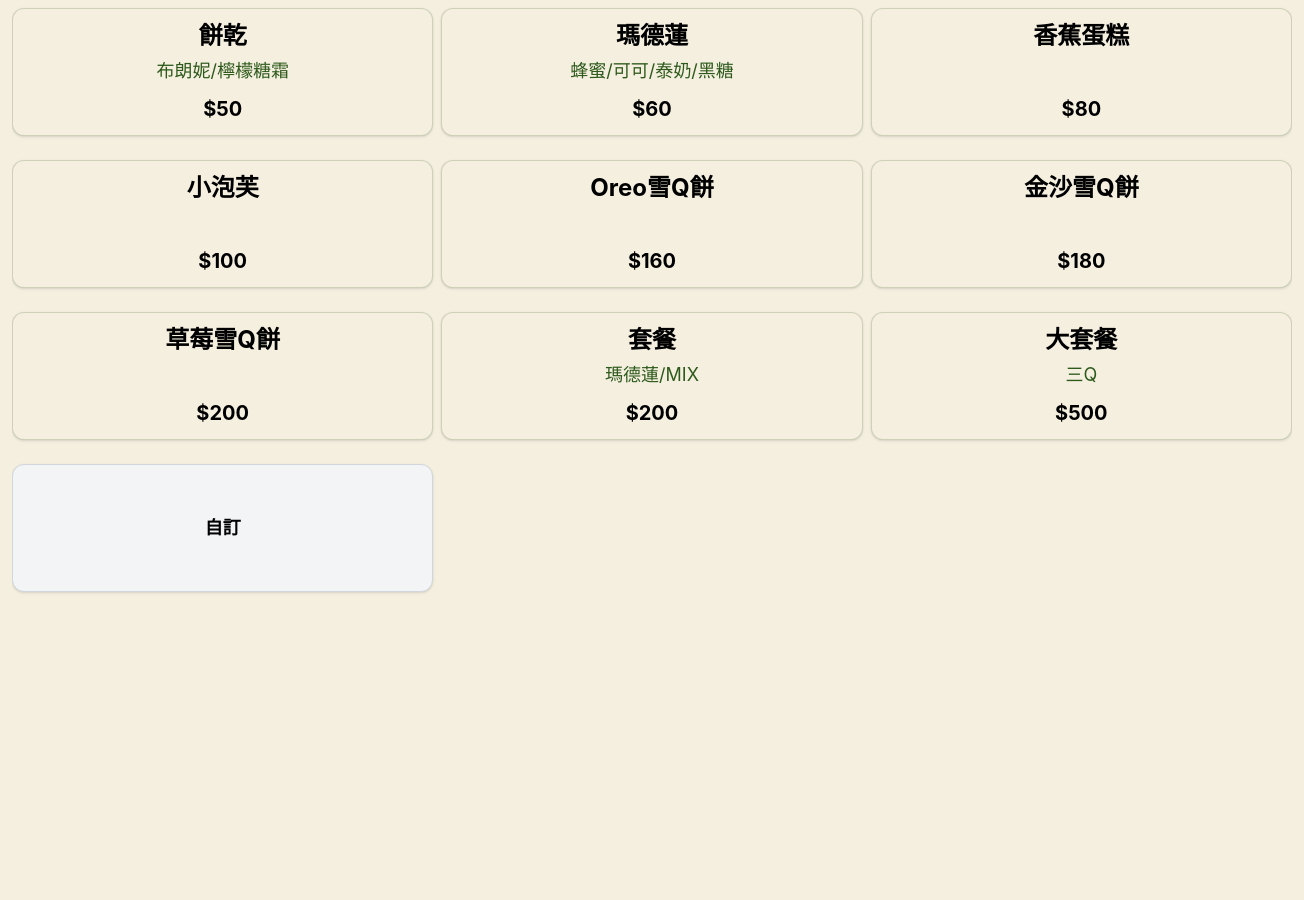
it: PriceGrid › opens custom amount input when custom button clicked
Click the button "自訂" at (223,528), box top-left (12, 464), bottom-right (433, 592)
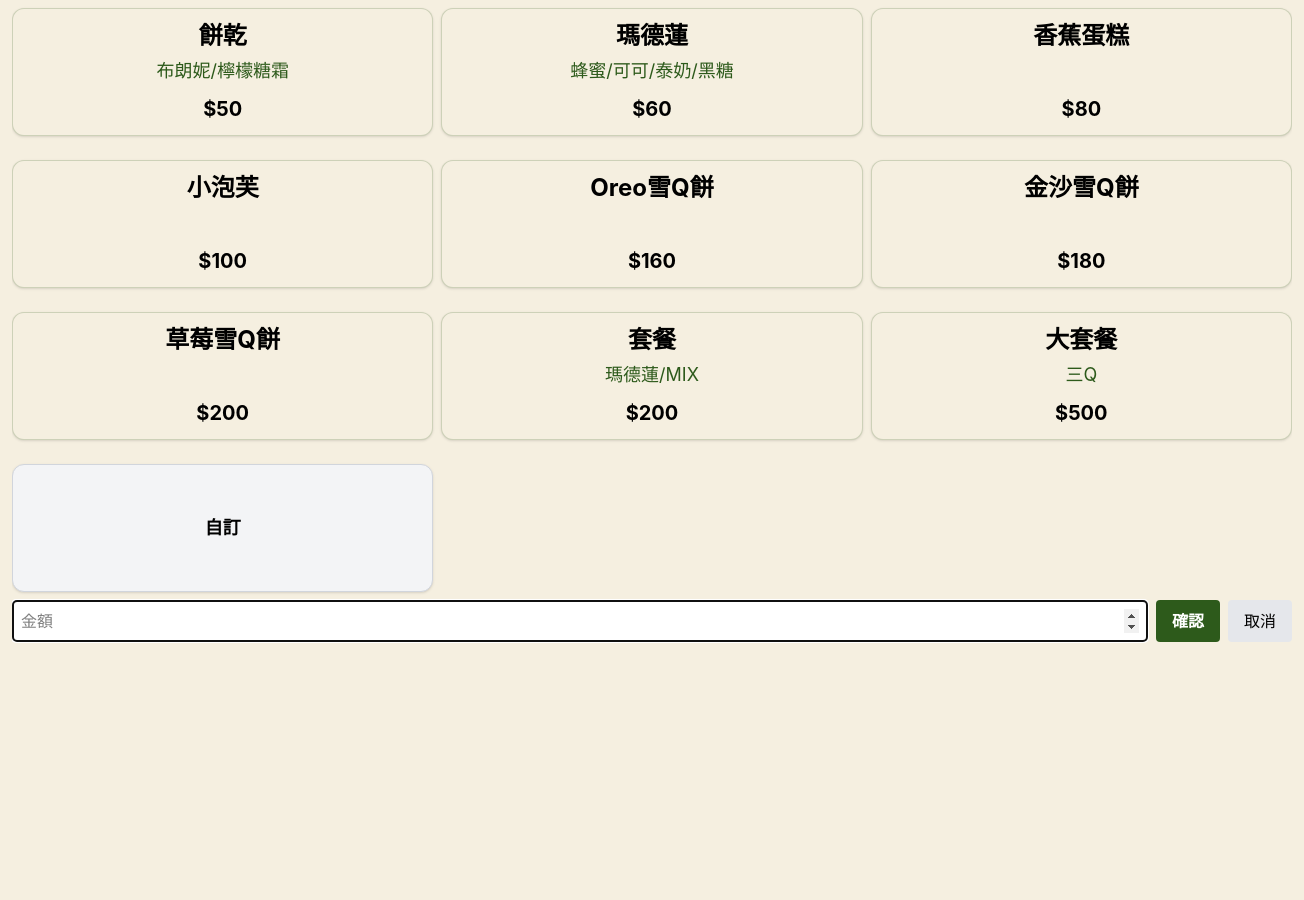
Expected: the number field with placeholder "金額" is shown, top-left (12, 600), bottom-right (1148, 642)
